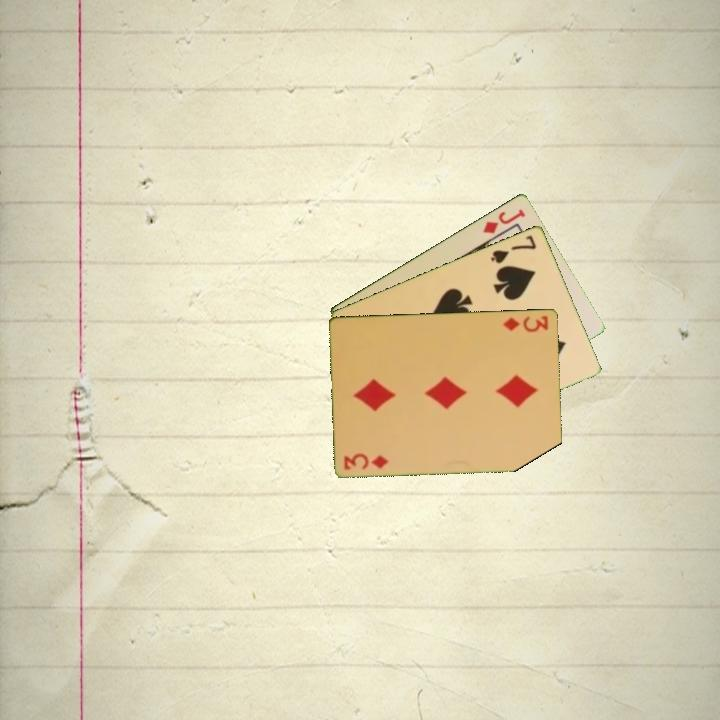3d: (500, 312, 551, 335), (341, 450, 391, 472)
7s: (487, 231, 539, 266)
Jd: (479, 205, 528, 236)
